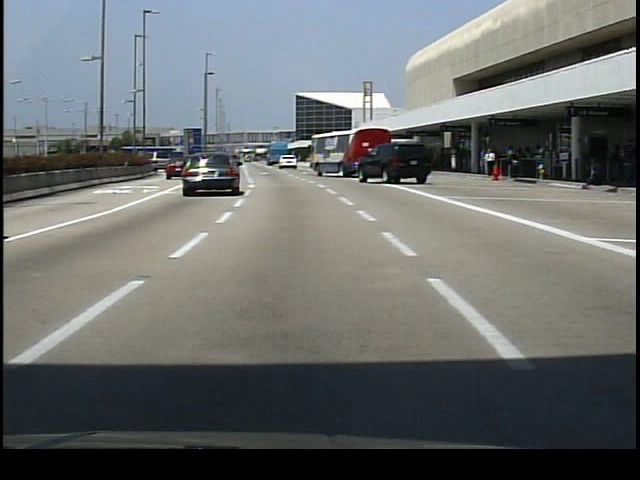person: (482, 146, 497, 181)
